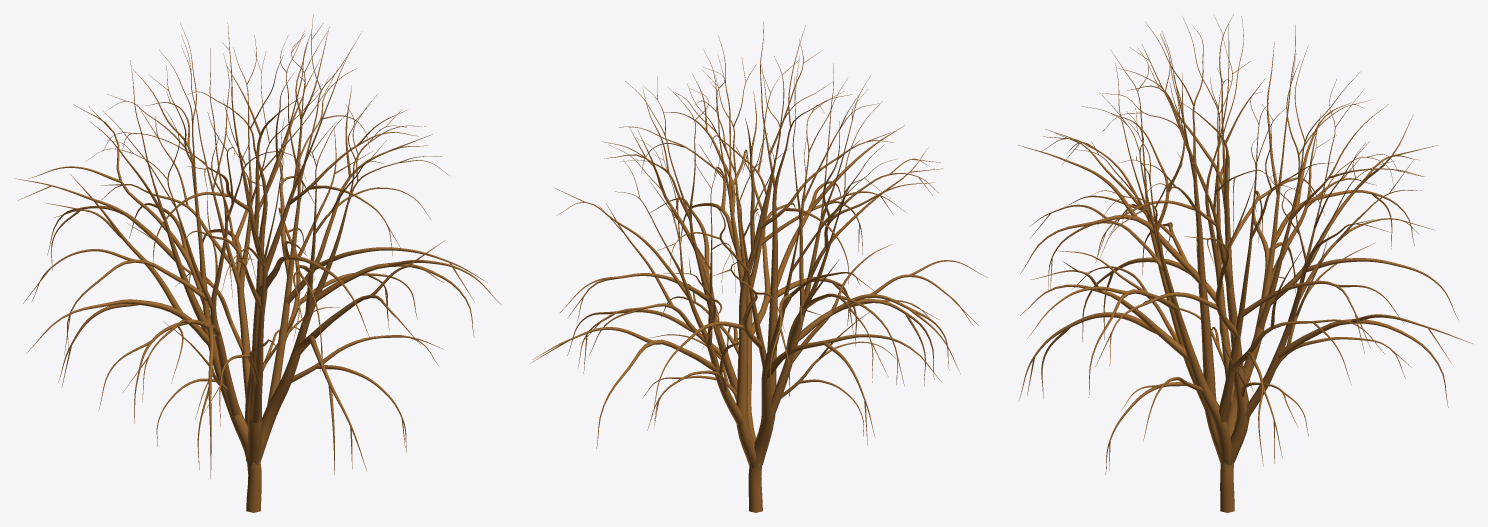
The model's file is tree.gltf.
3 renders of one model, left to right at view 1: azimuth 30°, elevation 25°; view 2: azimuth 150°, elevation 25°; view 3: azimuth 270°, elevation 25°, orthographic. The views are drawn at different scales.
Parts seen in each view (by area): view 1: tree; view 2: tree; view 3: tree.
Boxes of the visible parts, x1,y1,x2,y2 form: tree: (14,14,501,512); tree: (530,22,987,512); tree: (1018,14,1472,512).
Bounding box in the file's own units: 5.41 × 6.48 × 5.47.
